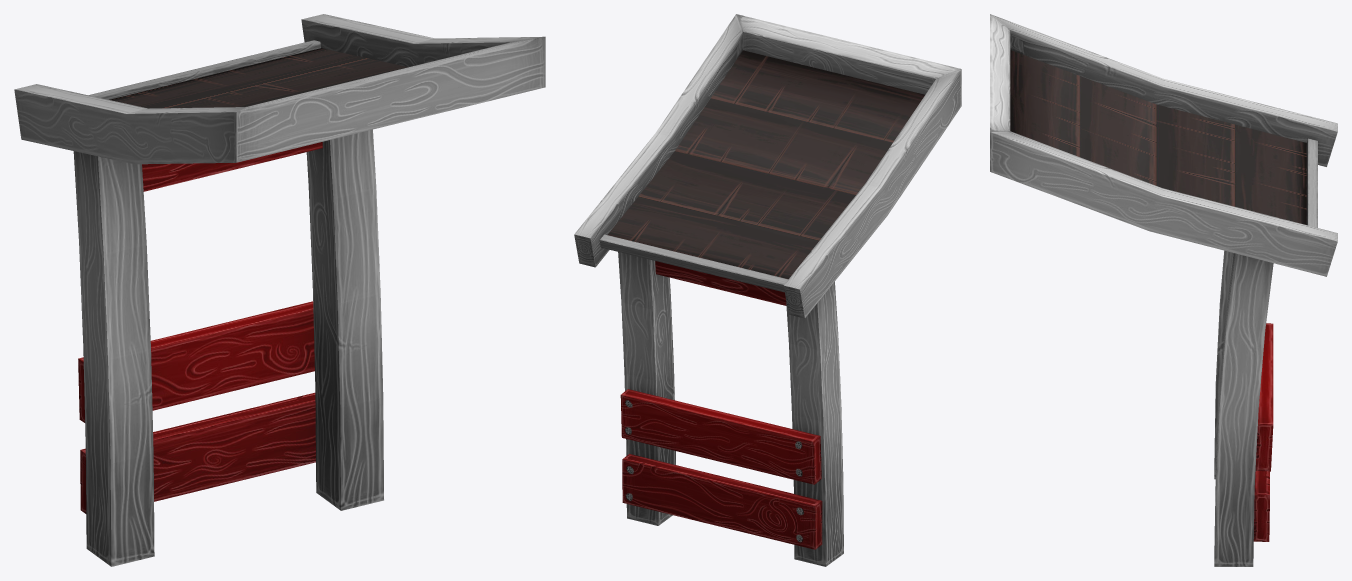
File: Straight_Sep.fbx
3 renders of one model, left to right at view 1: azimuth 30°, elevation 25°; view 2: azimuth 150°, elevation 25°; view 3: azimuth 270°, elevation 25°, orthographic. The views are drawn at different scales.
Visible parts, largest first — view 1: Straight; view 2: Straight; view 3: Straight.
Boxes of the visible parts, bbox=[...] form: Straight: bbox=[14, 14, 545, 566]; Straight: bbox=[574, 14, 961, 566]; Straight: bbox=[990, 14, 1337, 566].
Size of the model in its own units: 108 by 188 by 134.
